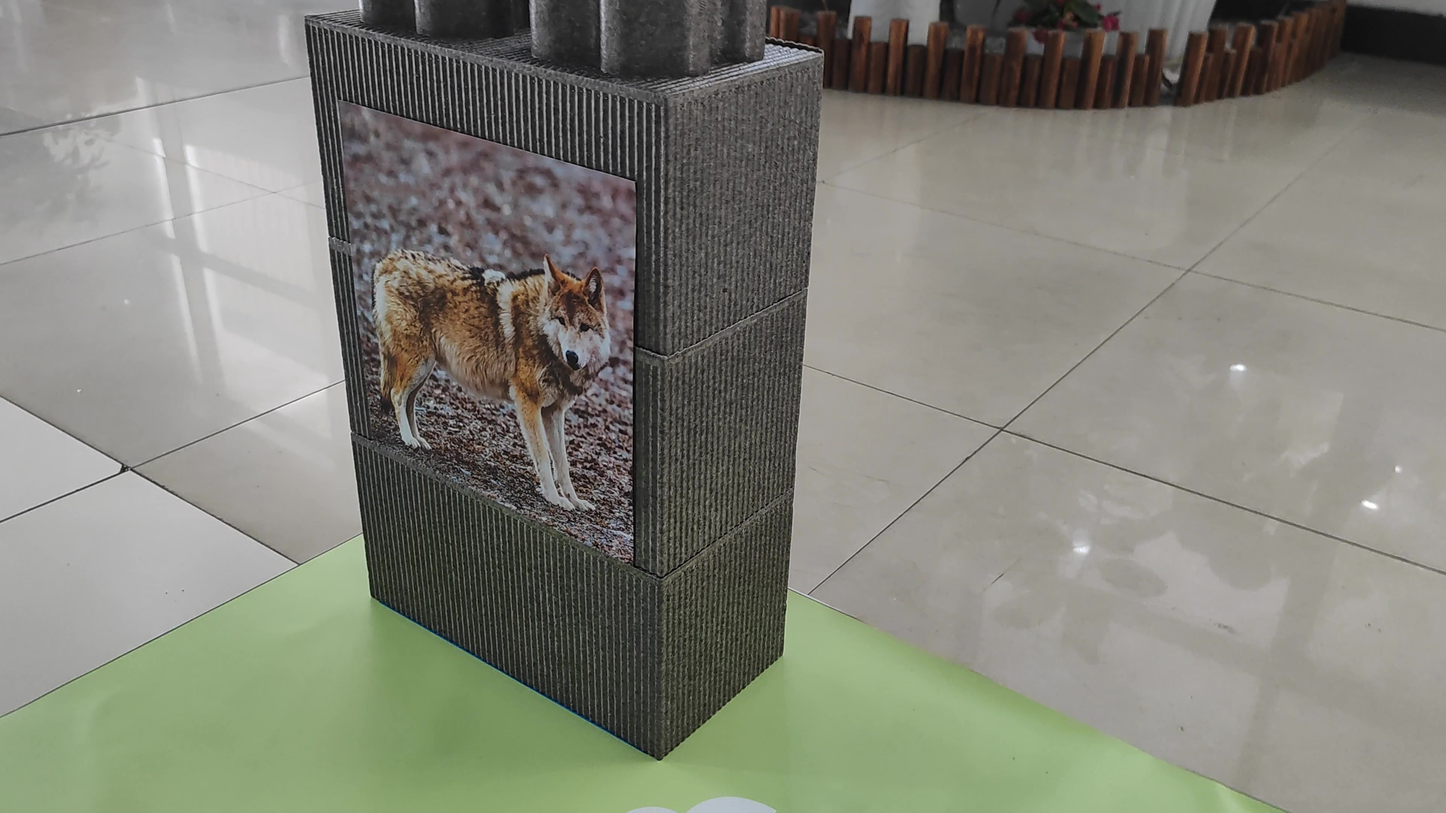wolf: (343, 109, 632, 530)
